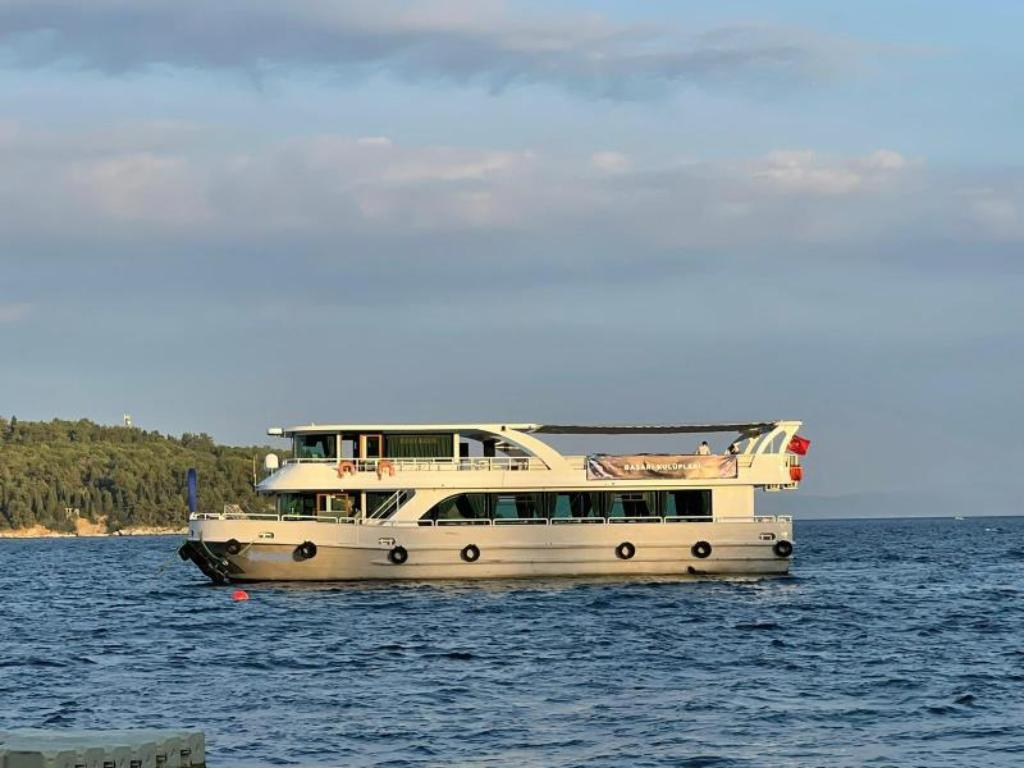PassengerShip: (175, 413, 819, 586)
